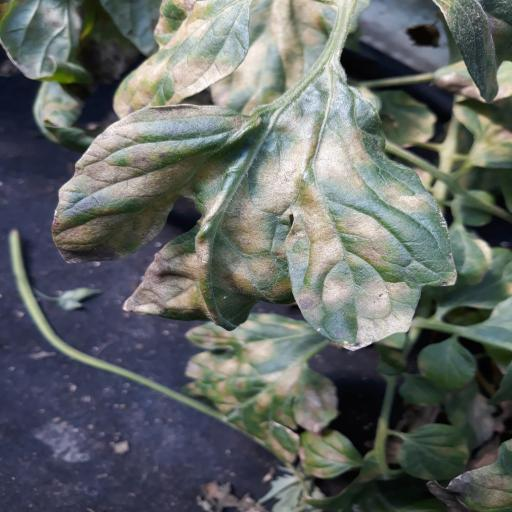disease_tomato: (50, 104, 458, 350), (186, 312, 338, 442)
